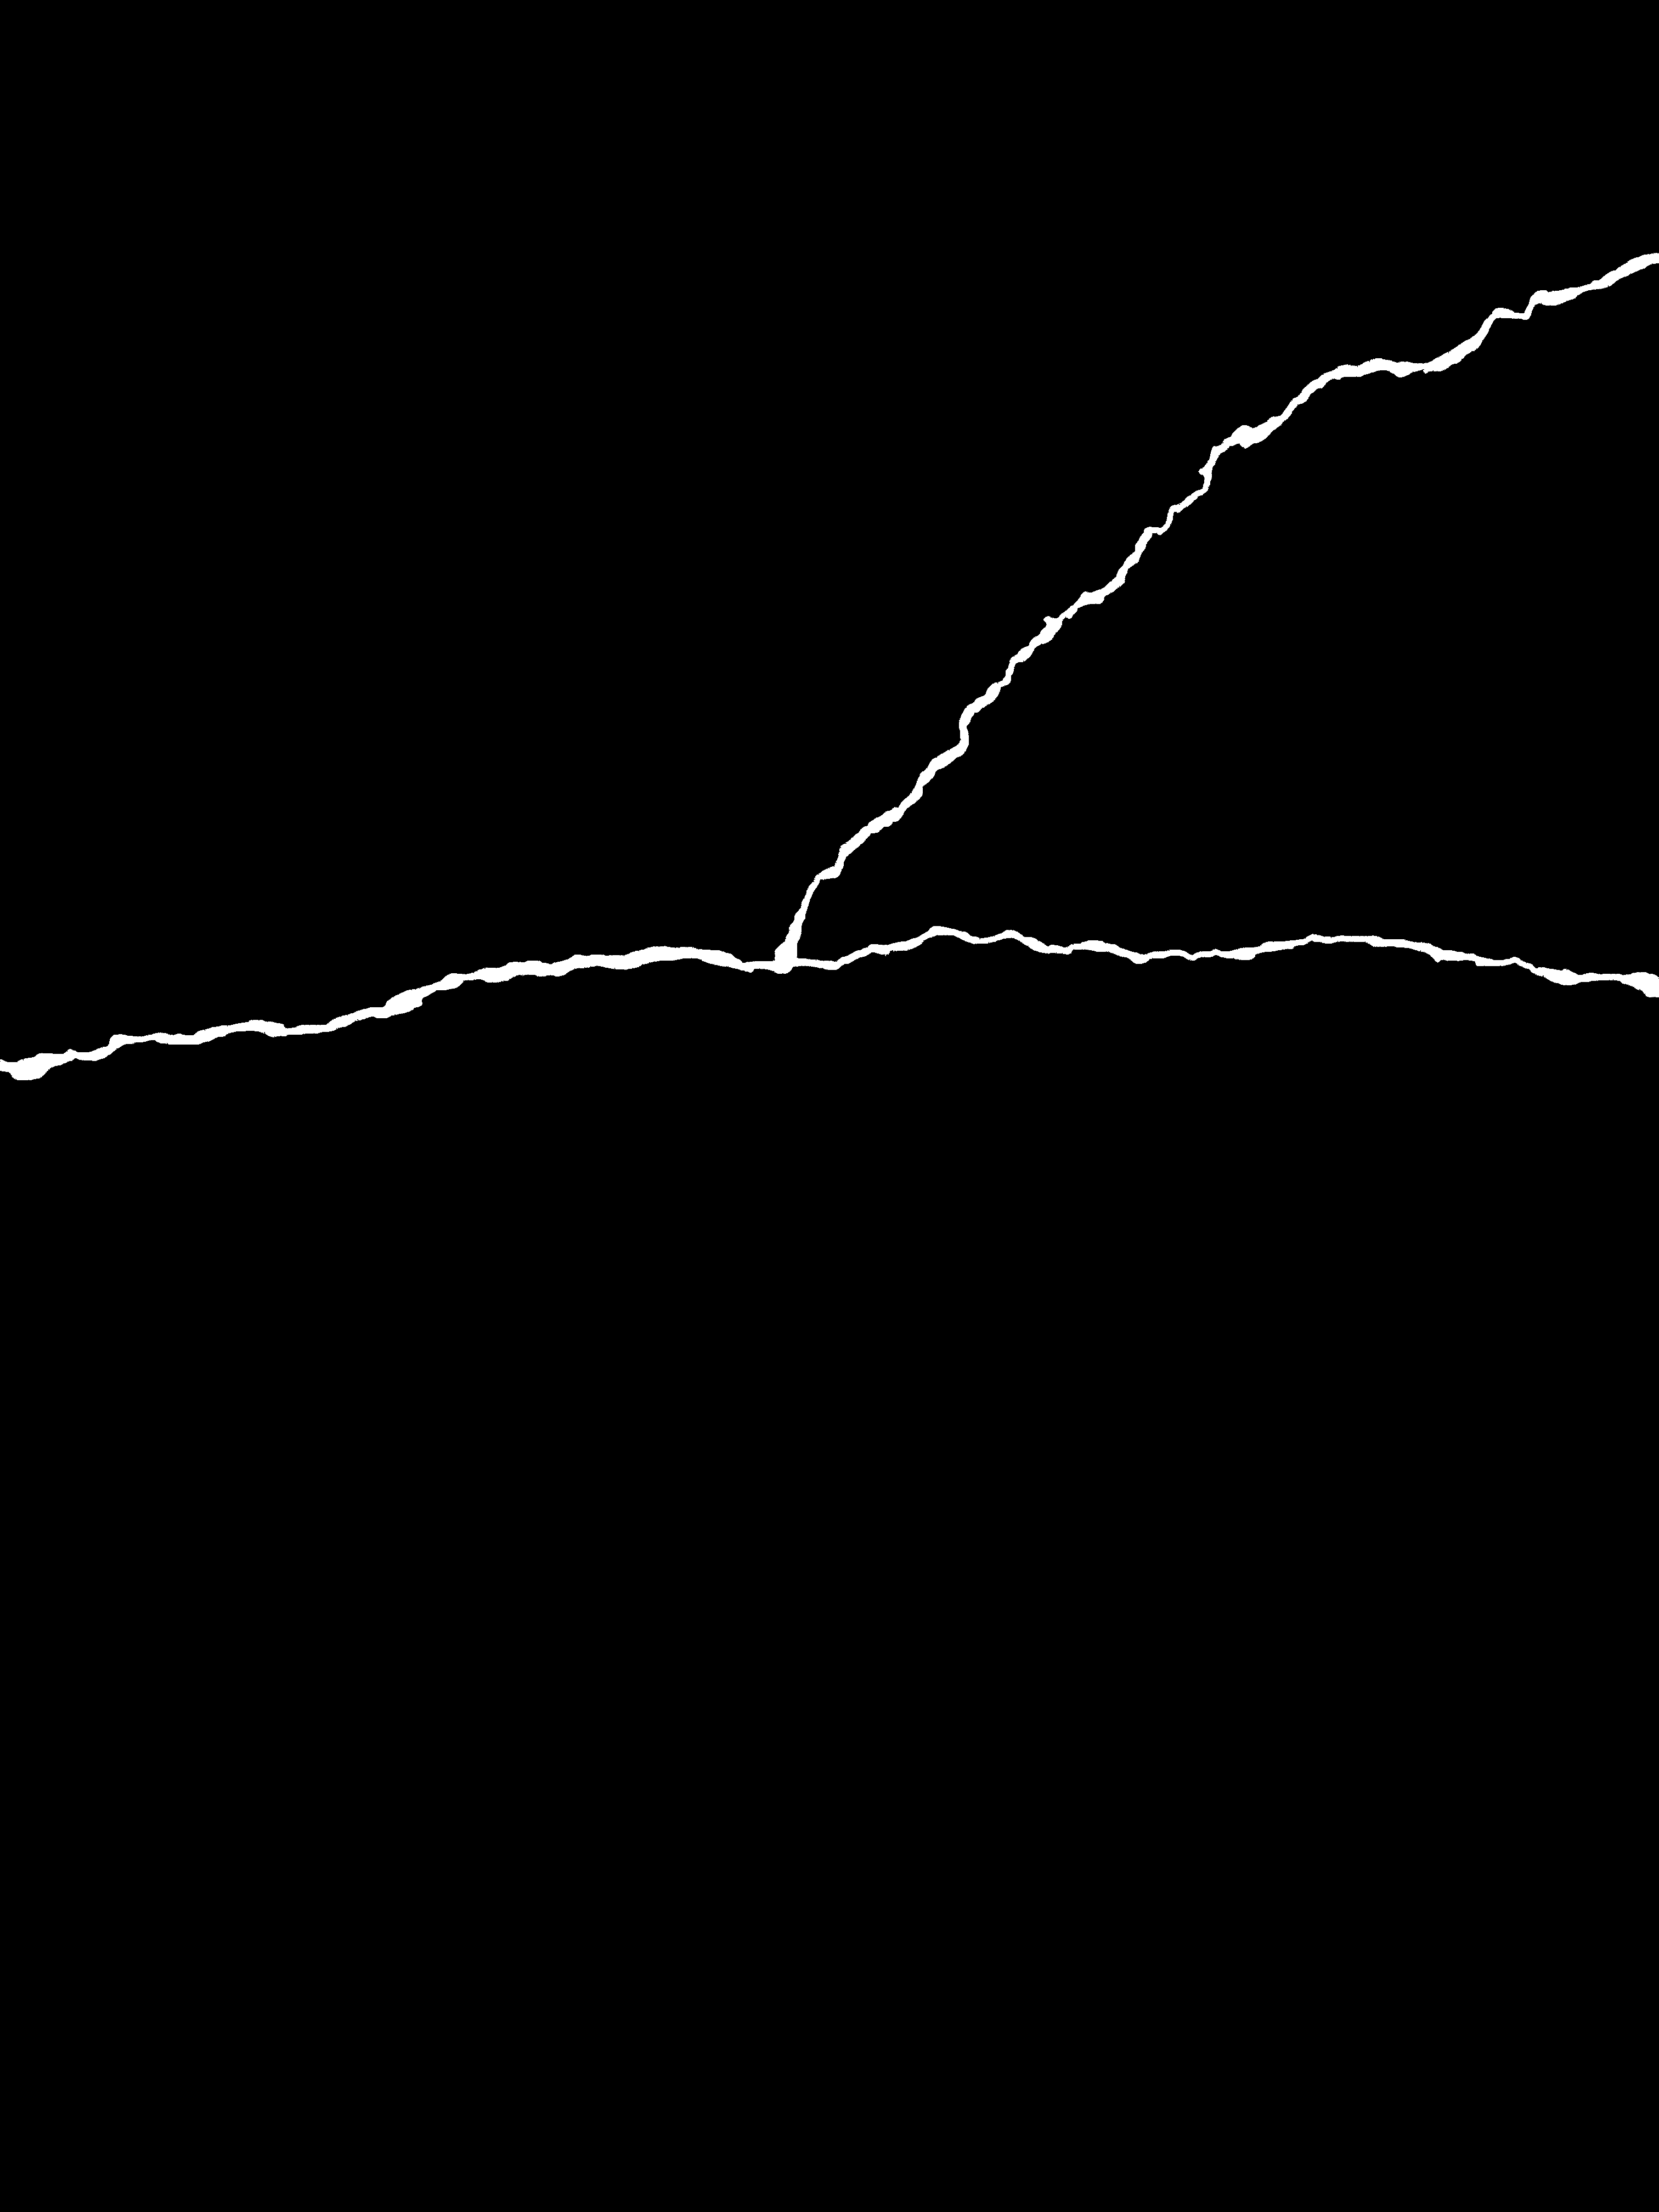Crack: (0, 216, 1659, 1096)
